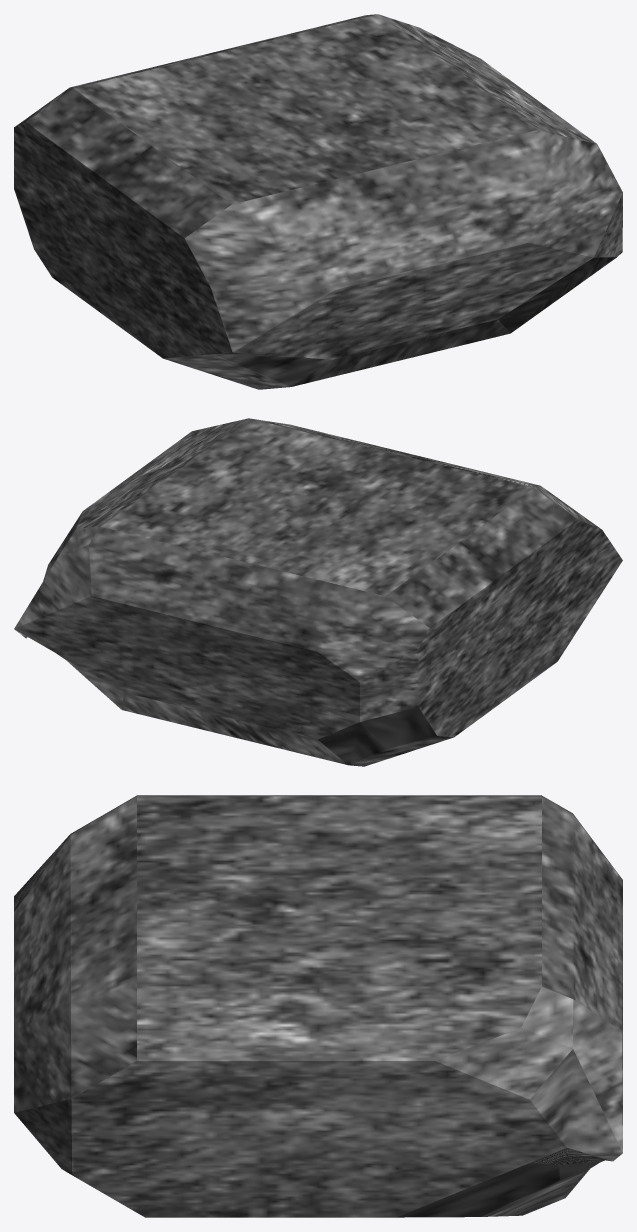
File: stone.fbx
The picture shows the model from 3 angles, top to bottom: view 1: azimuth 30°, elevation 25°; view 2: azimuth 150°, elevation 25°; view 3: azimuth 270°, elevation 25°; orthographic projection. The views are drawn at different scales.
Visible parts, largest first — view 1: Cube; view 2: Cube; view 3: Cube.
Boxes of the visible parts, left/top/right/bottom form: Cube: left=14, top=14, right=622, bottom=389; Cube: left=14, top=418, right=622, bottom=766; Cube: left=14, top=795, right=622, bottom=1217.
Bounding box in the file's own units: 200 × 90.3 × 200.
Materials: 1 (1 with a texture image).
